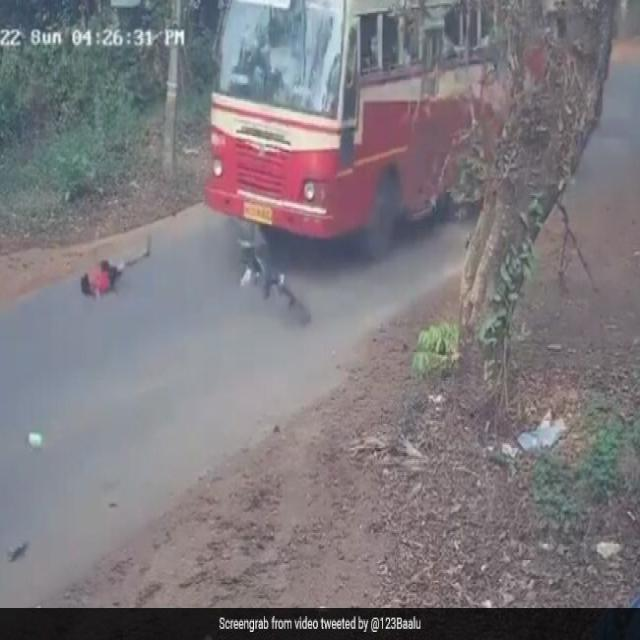accident: (205, 0, 485, 249)
